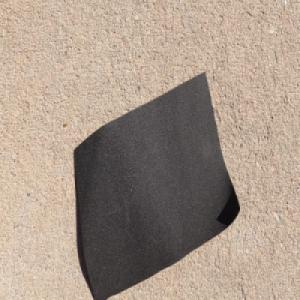PaintChip: (73, 70, 241, 300)
